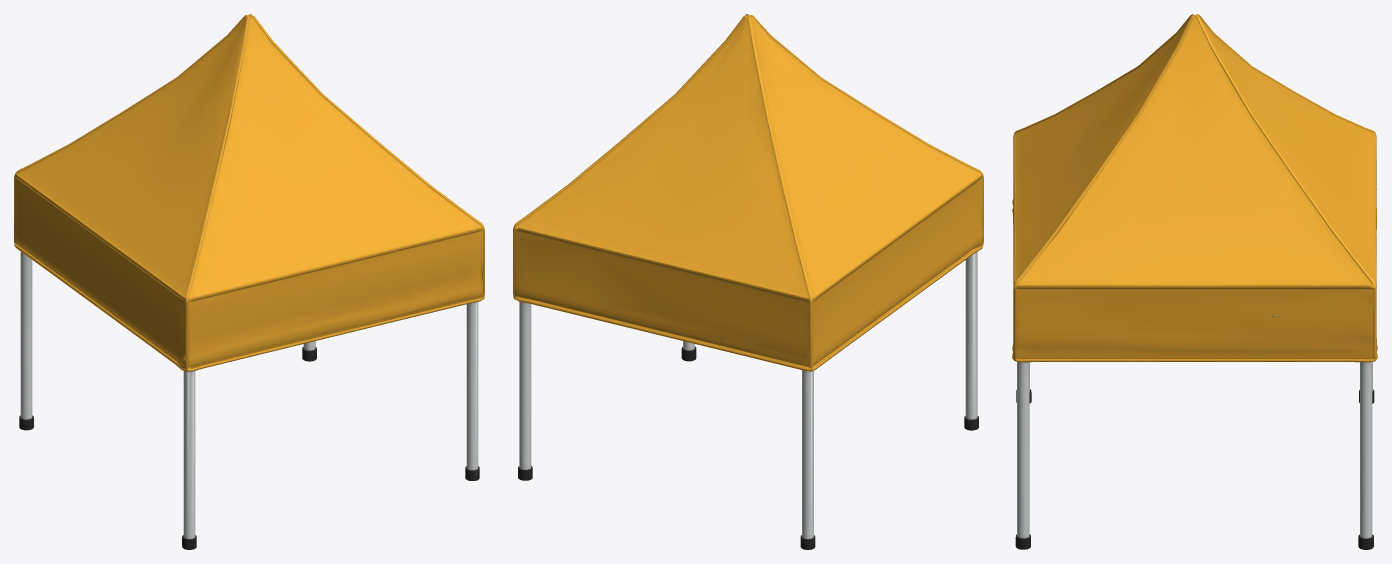
The model's file is Tent_6.5_6.5.glb.
3 views of the same model, side by side, from view 1: azimuth 30°, elevation 25°; view 2: azimuth 150°, elevation 25°; view 3: azimuth 270°, elevation 25° (orthographic). The views are drawn at different scales.
Parts seen in each view (by area): view 1: fabric, leg; view 2: fabric, leg; view 3: fabric, leg.
Part boxes in pixels (bbox=[...]): fabric: bbox=[14, 14, 484, 371]; leg: bbox=[19, 252, 479, 549]; fabric: bbox=[513, 14, 983, 371]; leg: bbox=[518, 251, 978, 549]; fabric: bbox=[1012, 14, 1377, 362]; leg: bbox=[1015, 314, 1374, 549].
Size of the model in its own units: 1.53 by 2.12 by 1.53.
Materials: 3 (2 with a texture image).
